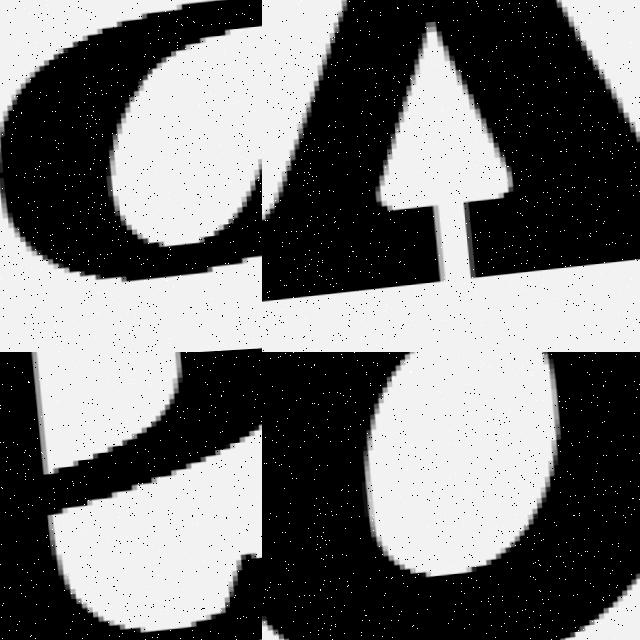A: (0, 352, 262, 640)
O: (262, 352, 640, 640)
V: (262, 0, 640, 317)
